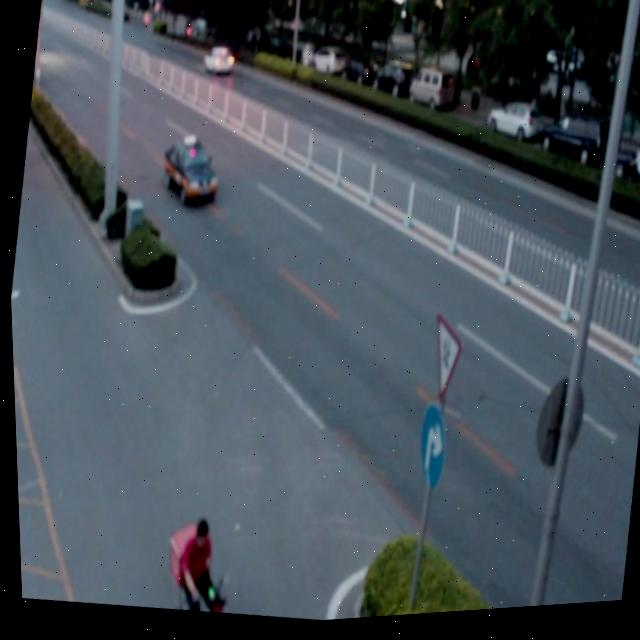car: (156, 133, 223, 209)
